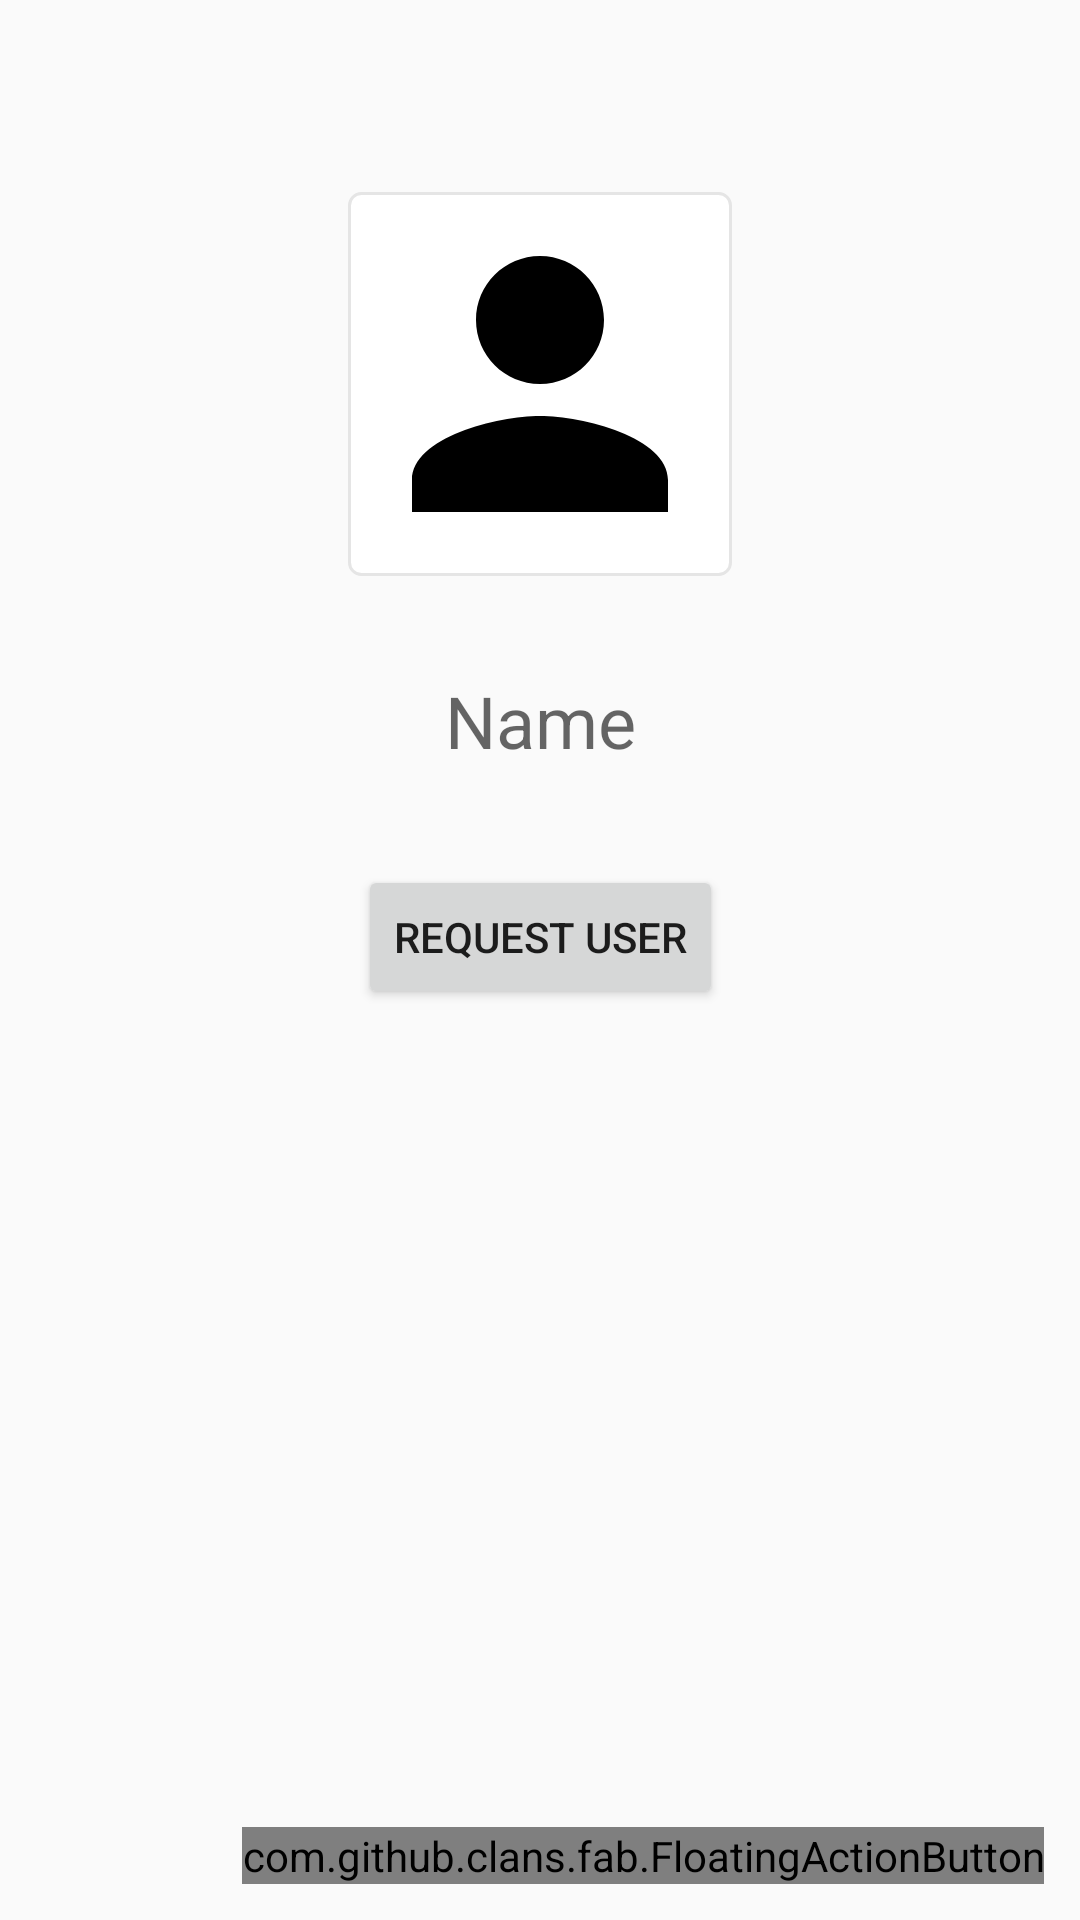

Icon click points for this 1080 × 1920 phone screenshot, format (x,y):
person: (540,384)
